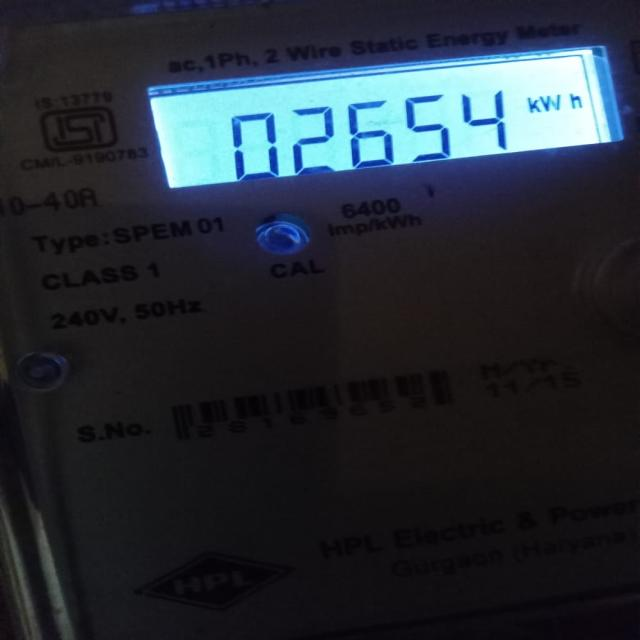display: (132, 62, 602, 209)
